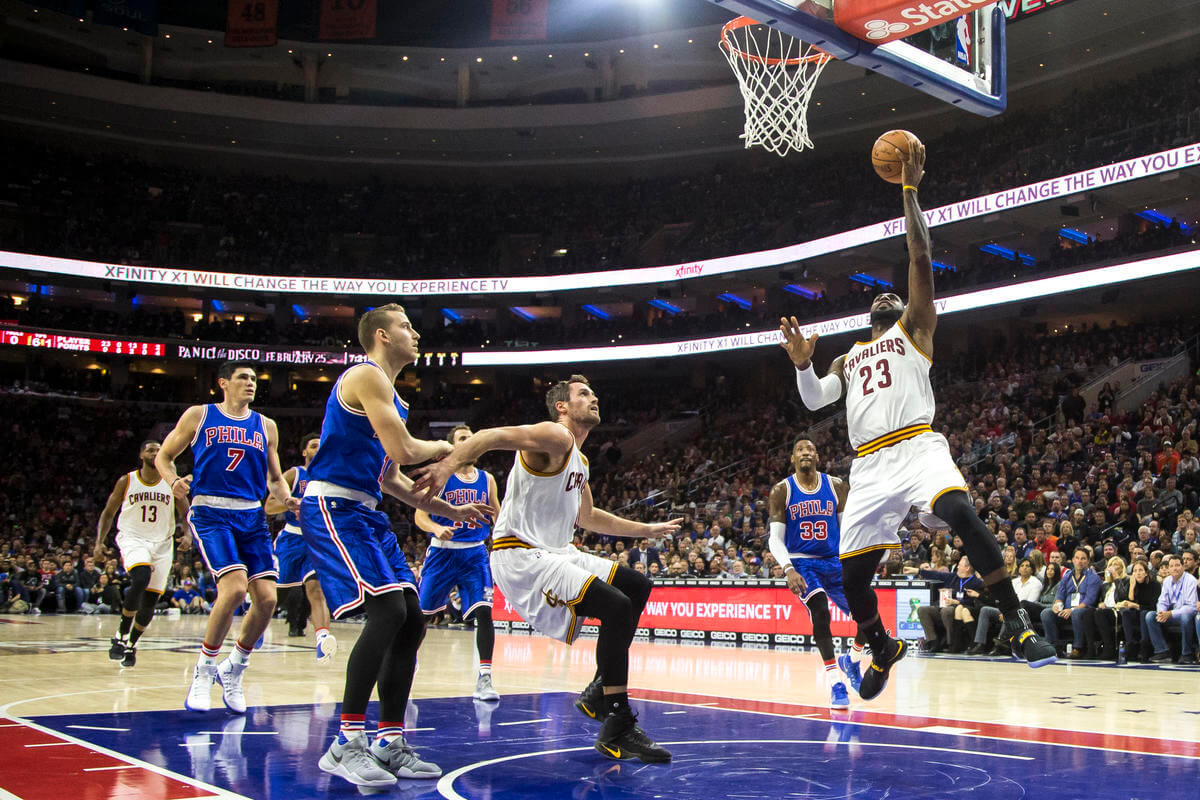basketball: (863, 127, 931, 189)
basketball player: (817, 184, 961, 721), (302, 303, 457, 800), (499, 366, 666, 768), (160, 359, 286, 722), (744, 433, 858, 719), (97, 435, 173, 677)
